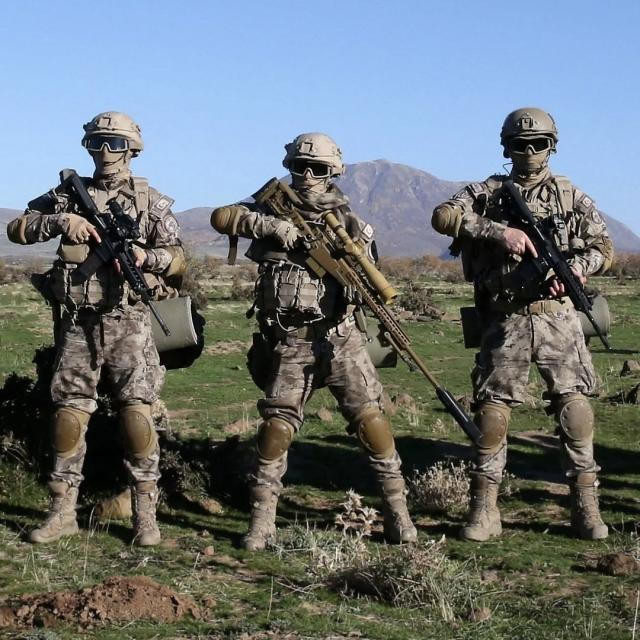poh_personel: (212, 133, 418, 549), (432, 108, 614, 540), (8, 110, 188, 546)
